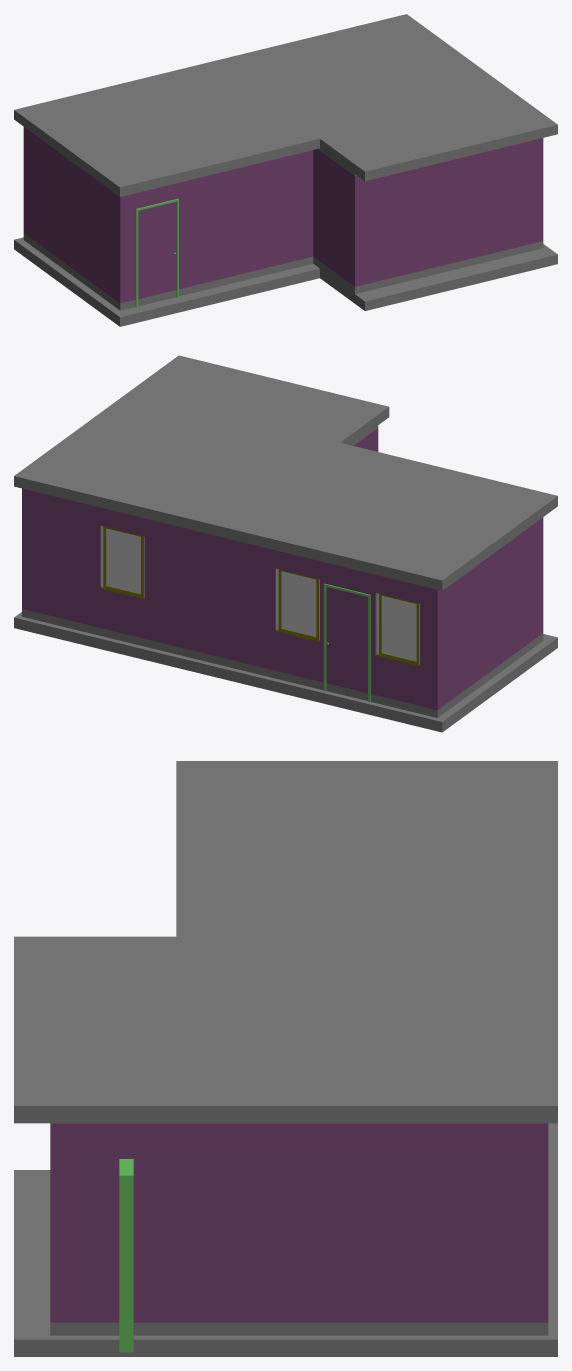
Rendered from FloorPlan223.fbx.
The picture shows the model from 3 angles, top to bottom: view 1: azimuth 30°, elevation 25°; view 2: azimuth 150°, elevation 25°; view 3: azimuth 270°, elevation 25°; orthographic projection. The views are drawn at different scales.
Visible parts, largest first — view 1: StandardWallSize, Ceiling, Floor, StandardDoorFrame1 (2); view 2: Ceiling, StandardWallSize, Floor, WindowGlass, StandardDoorFrame1, StandardWindow1, StandardWindow1 (2), StandardWindow1 (3); view 3: Ceiling, StandardWallSize, Floor, StandardDoorFrame1 (3).
Part boxes in pixels (x1,y1,x2,y2): StandardWallSize: (23, 127, 543, 310); Ceiling: (14, 14, 557, 196); Floor: (14, 237, 557, 326); StandardDoorFrame1 (2): (135, 198, 178, 307); Ceiling: (14, 355, 557, 590); StandardWallSize: (22, 425, 543, 717); Floor: (14, 612, 557, 732); WindowGlass: (100, 526, 419, 664); StandardDoorFrame1: (323, 583, 370, 702); StandardWindow1: (278, 569, 319, 640); StandardWindow1 (2): (103, 526, 143, 597); StandardWindow1 (3): (379, 594, 419, 664); Ceiling: (14, 761, 557, 1123); StandardWallSize: (50, 1123, 548, 1335); Floor: (14, 1123, 557, 1356); StandardDoorFrame1 (3): (119, 1159, 133, 1352).
Size of the model in its own units: 886 by 290 by 570.
